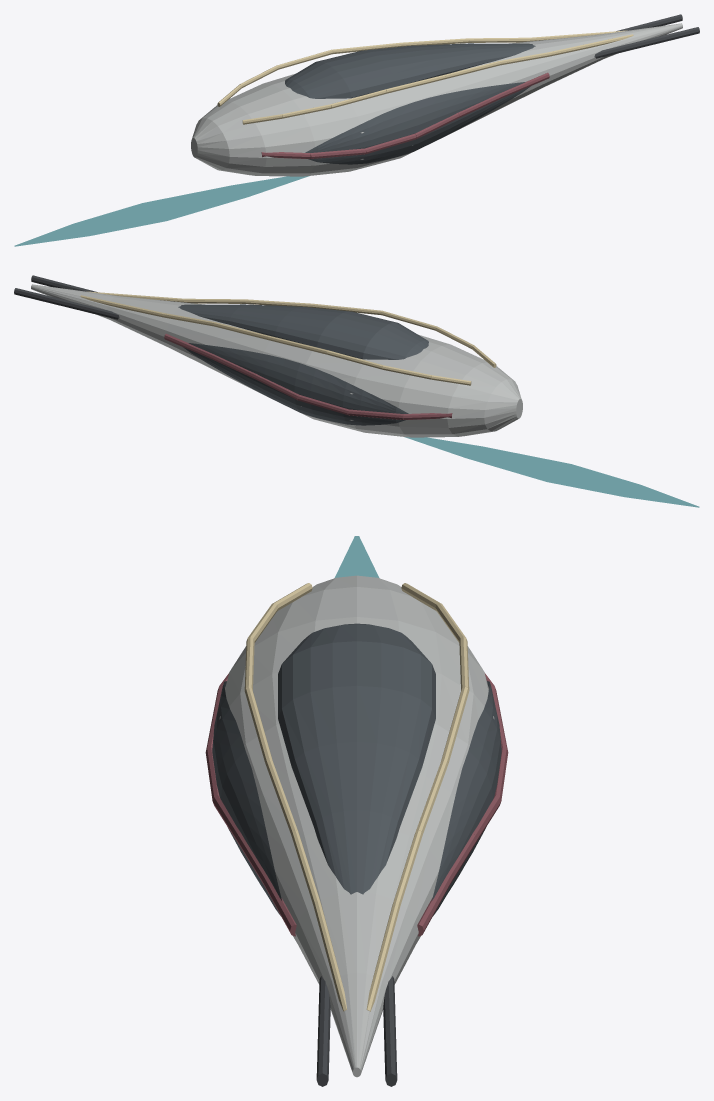
File: niruch_silver_flight.glb
3 views of the same model, one above another, from view 1: azimuth 30°, elevation 25°; view 2: azimuth 150°, elevation 25°; view 3: azimuth 270°, elevation 25° (orthographic). The views are drawn at different scales.
Parts seen in each view (by area): view 1: main_hull_0, canopy_2, side_window_1, ground_wake, golden_upper_rail_3, side_sweep_4, front_fork_5; view 2: main_hull_0, canopy_2, side_window_1, ground_wake, golden_upper_rail_3, side_sweep_4, front_fork_5; view 3: main_hull_0, canopy_2, side_window_1, golden_upper_rail_3, side_sweep_4, front_fork_5, ground_wake.
Part boxes in pixels (x1,y1,x2,y2): main_hull_0: (191, 23, 682, 176); canopy_2: (285, 43, 535, 98); side_window_1: (305, 82, 530, 164); ground_wake: (14, 176, 309, 246); golden_upper_rail_3: (217, 30, 633, 124); side_sweep_4: (261, 72, 549, 158); front_fork_5: (594, 14, 699, 58); main_hull_0: (31, 284, 522, 437); canopy_2: (178, 304, 428, 359); side_window_1: (183, 343, 408, 425); ground_wake: (404, 437, 699, 507); golden_upper_rail_3: (80, 291, 496, 385); side_sweep_4: (164, 333, 452, 419); front_fork_5: (14, 275, 119, 319); main_hull_0: (219, 575, 494, 1077); canopy_2: (278, 623, 435, 894); side_window_1: (212, 681, 501, 915); golden_upper_rail_3: (244, 583, 469, 1011); side_sweep_4: (205, 673, 508, 936); front_fork_5: (316, 976, 397, 1086); ground_wake: (334, 536, 379, 578).
Size of the model in its own units: 11.08 by 1.6 by 2.15.
